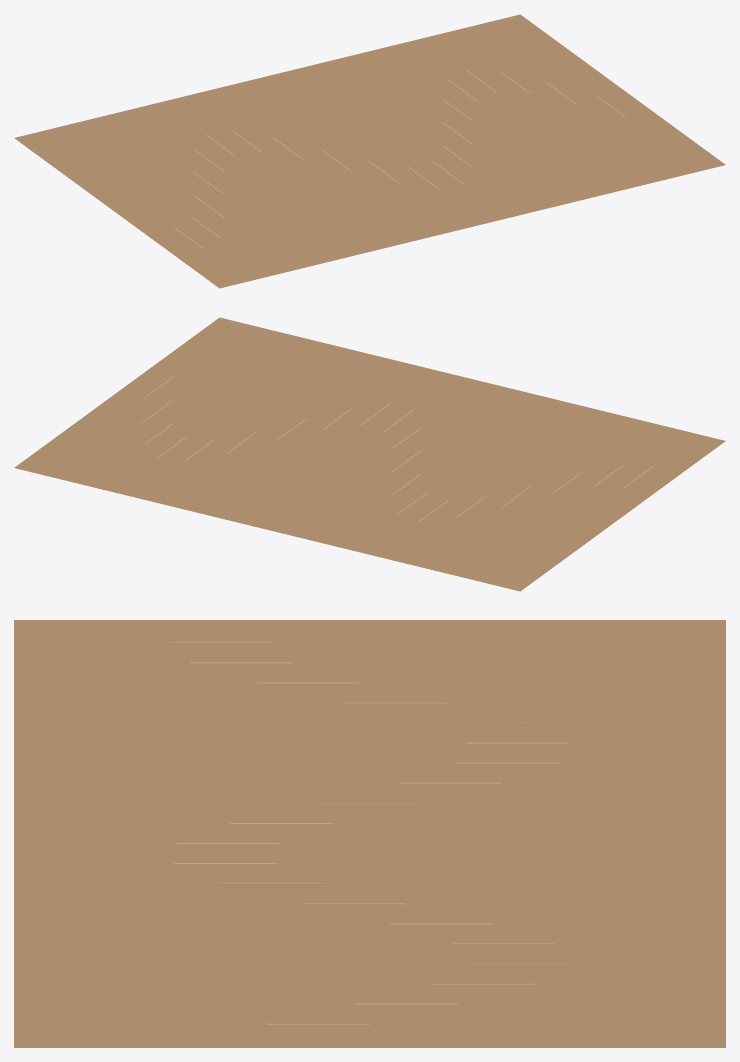
Rendered from 250_L118_L13_LayerReference.glb.
3 renders of one model, top to bottom at view 1: azimuth 30°, elevation 25°; view 2: azimuth 150°, elevation 25°; view 3: azimuth 270°, elevation 25°, orthographic. The views are drawn at different scales.
Parts seen in each view (by area): view 1: 0000__PSMAT__copper_dark; view 2: 0000__PSMAT__copper_dark; view 3: 0000__PSMAT__copper_dark.
Boxes of the visible parts, x1=… form: 0000__PSMAT__copper_dark: x1=14, y1=14, x2=725, y2=288; 0000__PSMAT__copper_dark: x1=14, y1=317, x2=725, y2=591; 0000__PSMAT__copper_dark: x1=14, y1=620, x2=725, y2=1047.
Bounding box in the file's own units: 0.472 × 0.000504 × 0.332.
